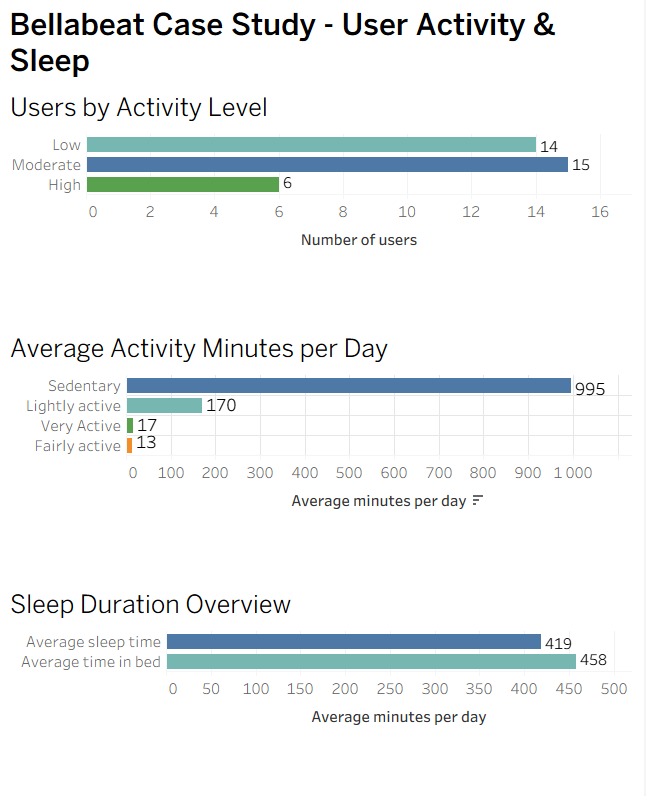

The page's visual inventory and layout, read from the dashboard file:
{"tool":"tableau","page":{"name":"Dashboard 1","canvas":[650,860],"ordinal":0},"visuals":[{"type":"worksheet","title":"Users by Activity Level","mark":"Automatic","rows":["ActivityLevel"],"cols":["Users"],"box":[8,8.1,634,268.5]},{"type":"worksheet","title":"Average Activity Minutes per Day","mark":"Bar","rows":["ActivityType"],"cols":["Minutes"],"box":[8,276.6,634,286.7]},{"type":"worksheet","title":"Sleep Duration Overview","mark":"Bar","rows":["SleepMetric"],"cols":["Minutes"],"box":[8,563.2,634,288.7]}]}

Visuals, with their boxes on the page's 650x860 design canvas (x1, y1, x2, y2). These are canvas units, not pixel positions in the 646x796 screenshot, which may show the page scaled, cropped or inside an application window:
"Users by Activity Level" worksheet: detection(8, 8, 642, 277)
"Average Activity Minutes per Day" worksheet (Bar marks): detection(8, 277, 642, 563)
"Sleep Duration Overview" worksheet (Bar marks): detection(8, 563, 642, 852)
